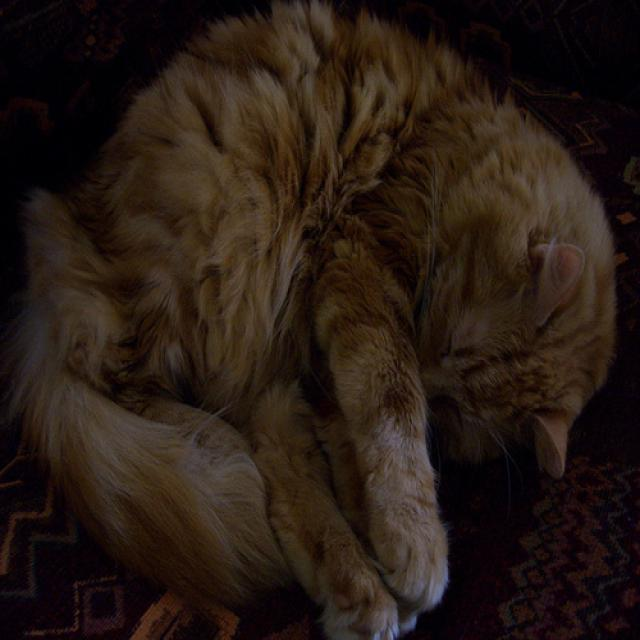Cat: (0, 24, 616, 575)
